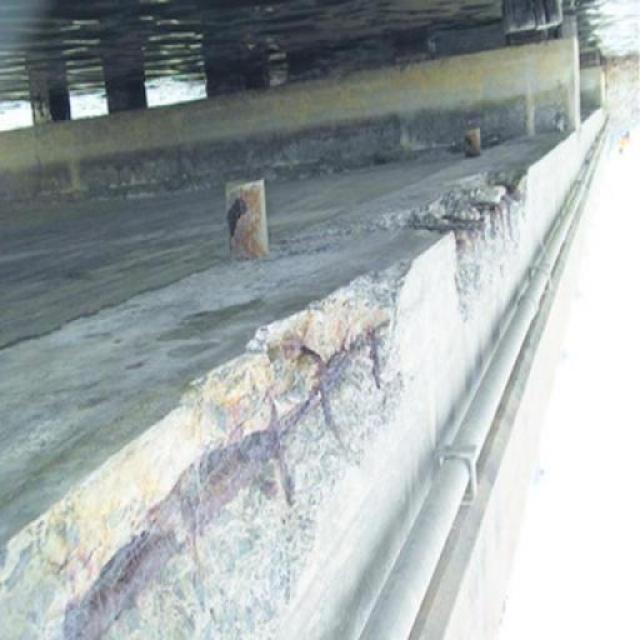D0w0: (60, 166, 529, 639)
